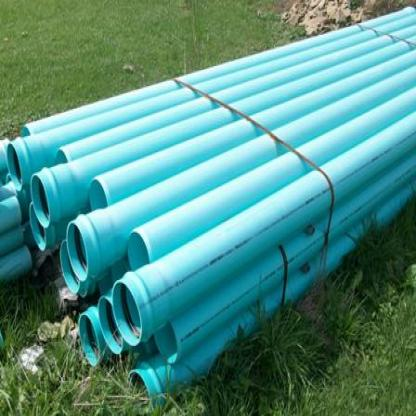PVC: (65, 63, 415, 283), (30, 35, 414, 231), (6, 12, 415, 191), (110, 113, 415, 348), (128, 183, 415, 412), (153, 152, 415, 366), (85, 44, 415, 209), (126, 89, 415, 271), (16, 6, 415, 137), (57, 23, 415, 161), (59, 239, 96, 297), (96, 295, 129, 353), (77, 304, 105, 367), (0, 245, 31, 282), (0, 195, 23, 233), (0, 133, 16, 183), (1, 223, 25, 254), (109, 258, 131, 284), (0, 179, 15, 202), (98, 278, 110, 293)
